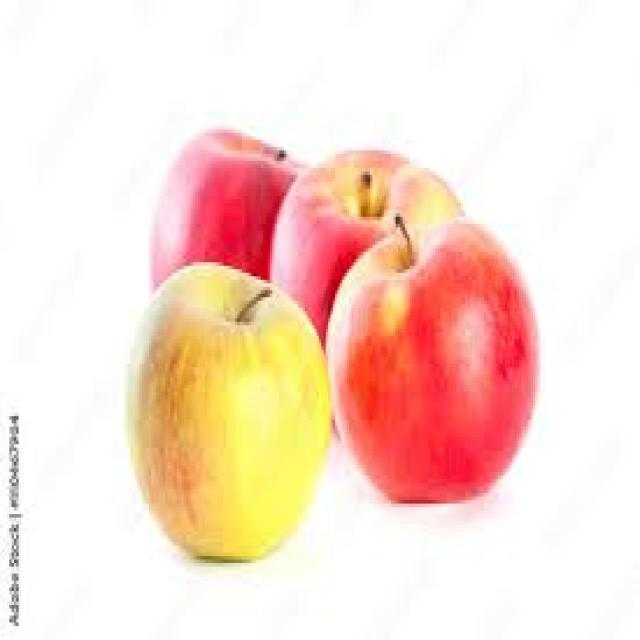non_orange: (117, 245, 342, 585), (332, 197, 546, 544), (260, 109, 467, 418), (113, 123, 314, 425)
